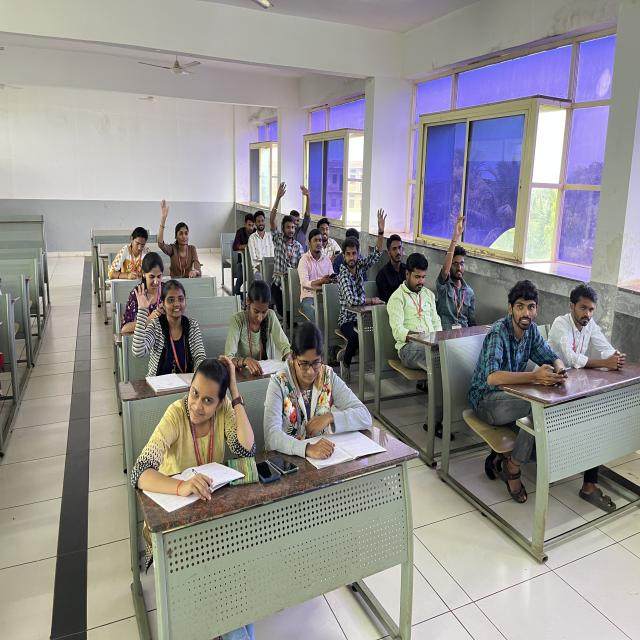Hand Rising: (130, 278, 200, 376), (434, 202, 480, 319), (339, 198, 389, 303), (155, 194, 203, 276), (268, 177, 300, 271), (292, 179, 314, 240)
Reading: (259, 318, 372, 467), (224, 276, 290, 372)
Using Phone: (389, 250, 447, 343), (302, 228, 338, 291), (231, 208, 258, 251), (316, 216, 342, 256)
Writing: (107, 224, 150, 283)
